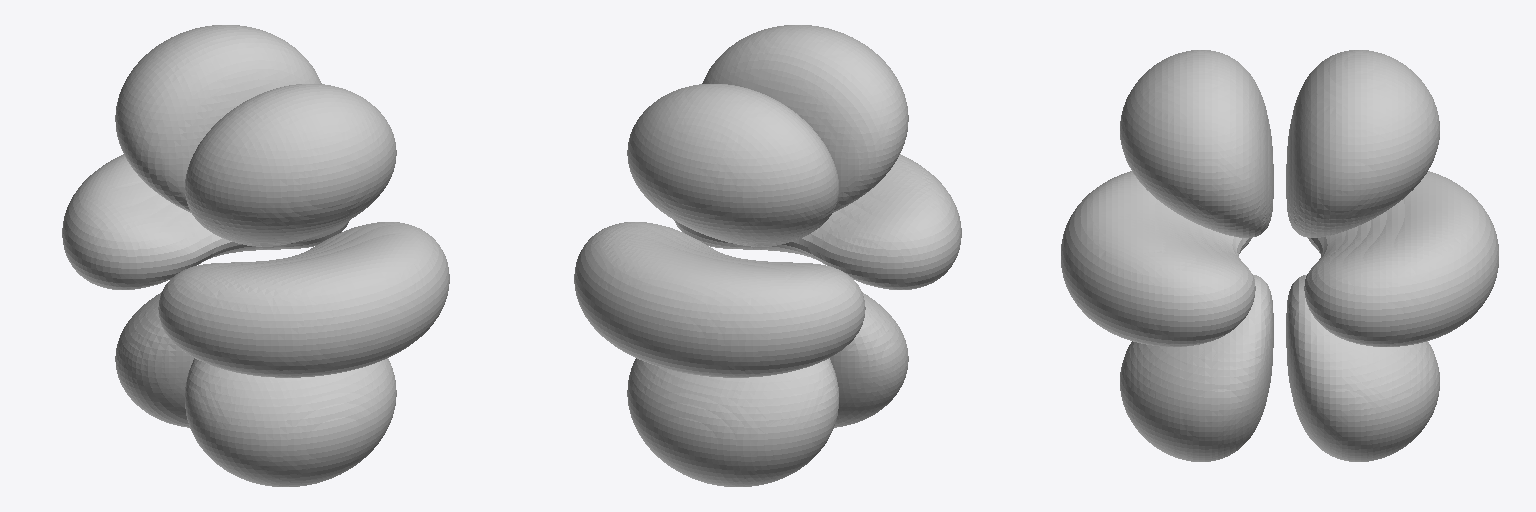
Rendered from orb_n=4_ l=3 _m=-1.obj.
The picture shows the model from 3 angles: view 1: azimuth 30°, elevation 25°; view 2: azimuth 150°, elevation 25°; view 3: azimuth 270°, elevation 25°; orthographic projection.
Visible parts, largest first — view 1: orb_n=4__l=3__m=-1; view 2: orb_n=4__l=3__m=-1; view 3: orb_n=4__l=3__m=-1.
Boxes of the visible parts, <box> form: orb_n=4__l=3__m=-1: <box>62,25,449,486</box>; orb_n=4__l=3__m=-1: <box>574,25,961,486</box>; orb_n=4__l=3__m=-1: <box>1061,50,1498,461</box>.
Bounding box in the file's own units: 46.61 × 64.1 × 65.81.